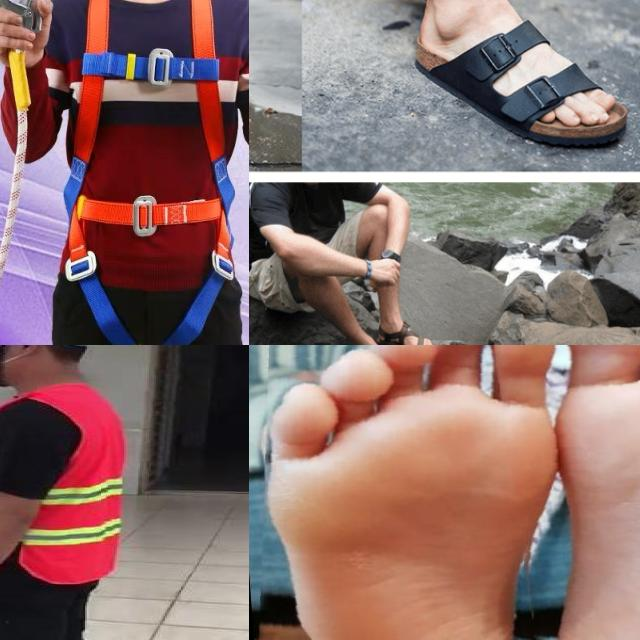Barefoots: (257, 345, 564, 640), (539, 345, 640, 640)
Harness: (61, 0, 237, 345)
Sandals: (413, 0, 631, 144)
person: (0, 345, 133, 640)
vest: (0, 385, 125, 585)
